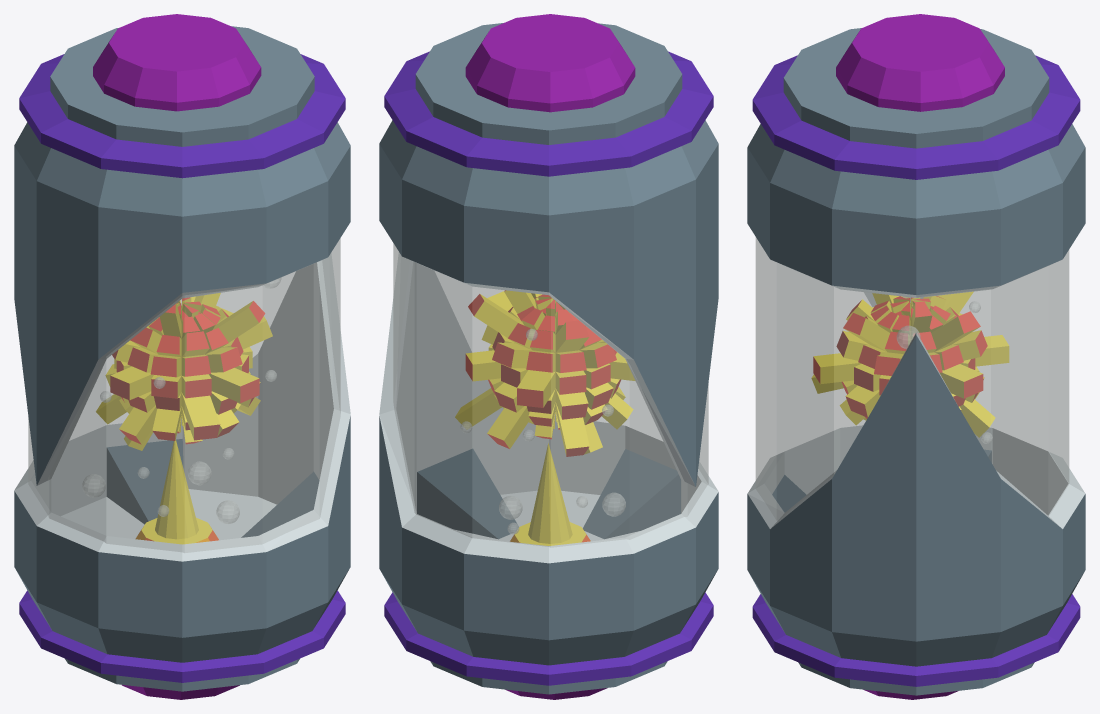
The model's file is prop_energy_core.glb.
The picture shows the model from 3 angles, left to right: view 1: azimuth 30°, elevation 25°; view 2: azimuth 150°, elevation 25°; view 3: azimuth 270°, elevation 25°; orthographic projection.
Visible parts, largest first — view 1: group2124742843, group729833253, group2118176176, group316010335, group2116247409, group1514521752, group661111561, group1706763184, group1911326310; view 2: group2124742843, group729833253, group2118176176, group316010335, group2116247409, group1514521752, group661111561, group1706763184, group1911326310; view 3: group729833253, group2124742843, group2118176176, group316010335, group2116247409, group1514521752.
Part boxes in pixels (x1,y1,x2,y2): group2124742843: (14, 26, 350, 485); group729833253: (14, 253, 350, 691); group2118176176: (28, 238, 340, 552); group316010335: (96, 293, 272, 450); group2116247409: (93, 14, 261, 111); group1514521752: (106, 439, 319, 537); group661111561: (155, 439, 198, 539); group1706763184: (136, 518, 218, 544); group1911326310: (122, 685, 239, 699); group2124742843: (379, 23, 718, 486); group729833253: (379, 252, 718, 694); group2118176176: (393, 243, 708, 547); group316010335: (455, 290, 635, 456); group2116247409: (465, 14, 635, 112); group1514521752: (417, 448, 680, 539); group661111561: (528, 443, 572, 543); group1706763184: (510, 522, 590, 545); group1911326310: (505, 688, 607, 699); group729833253: (747, 332, 1085, 695); group2124742843: (747, 28, 1085, 306); group2118176176: (755, 237, 1069, 520); group316010335: (811, 291, 1009, 437); group2116247409: (836, 14, 1004, 111); group1514521752: (772, 449, 991, 512).
Bounding box in the file's own units: 0.84 × 1.72 × 0.84.
